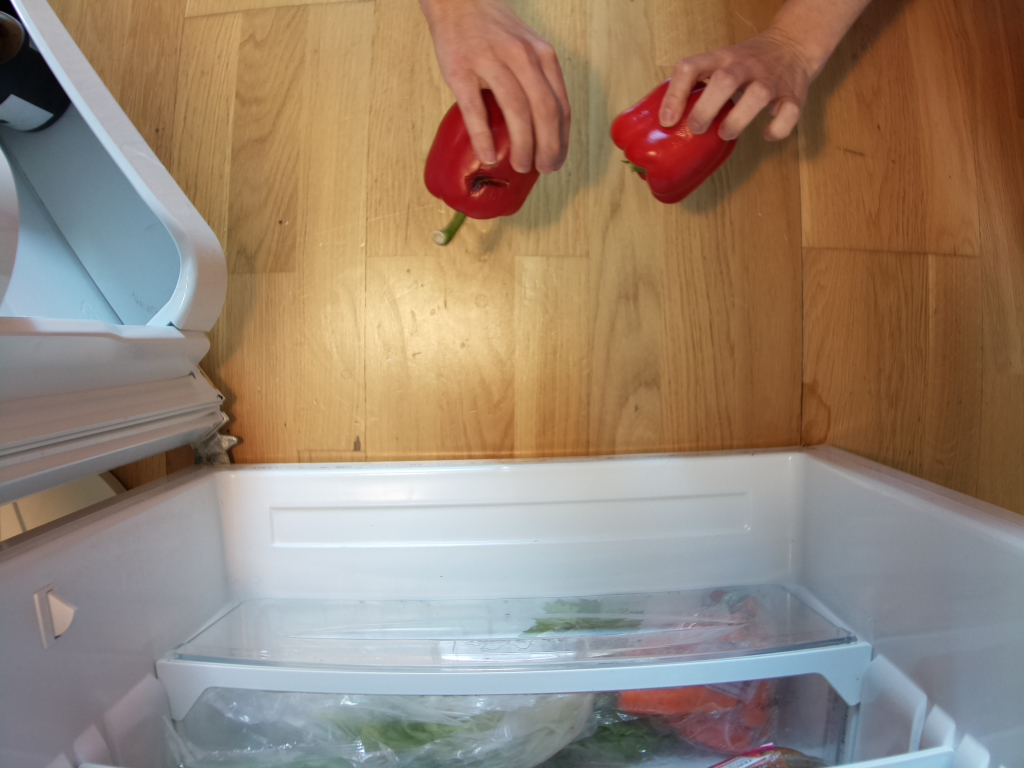pepper: (609, 81, 736, 204)
pepper-bad: (427, 89, 542, 252)
